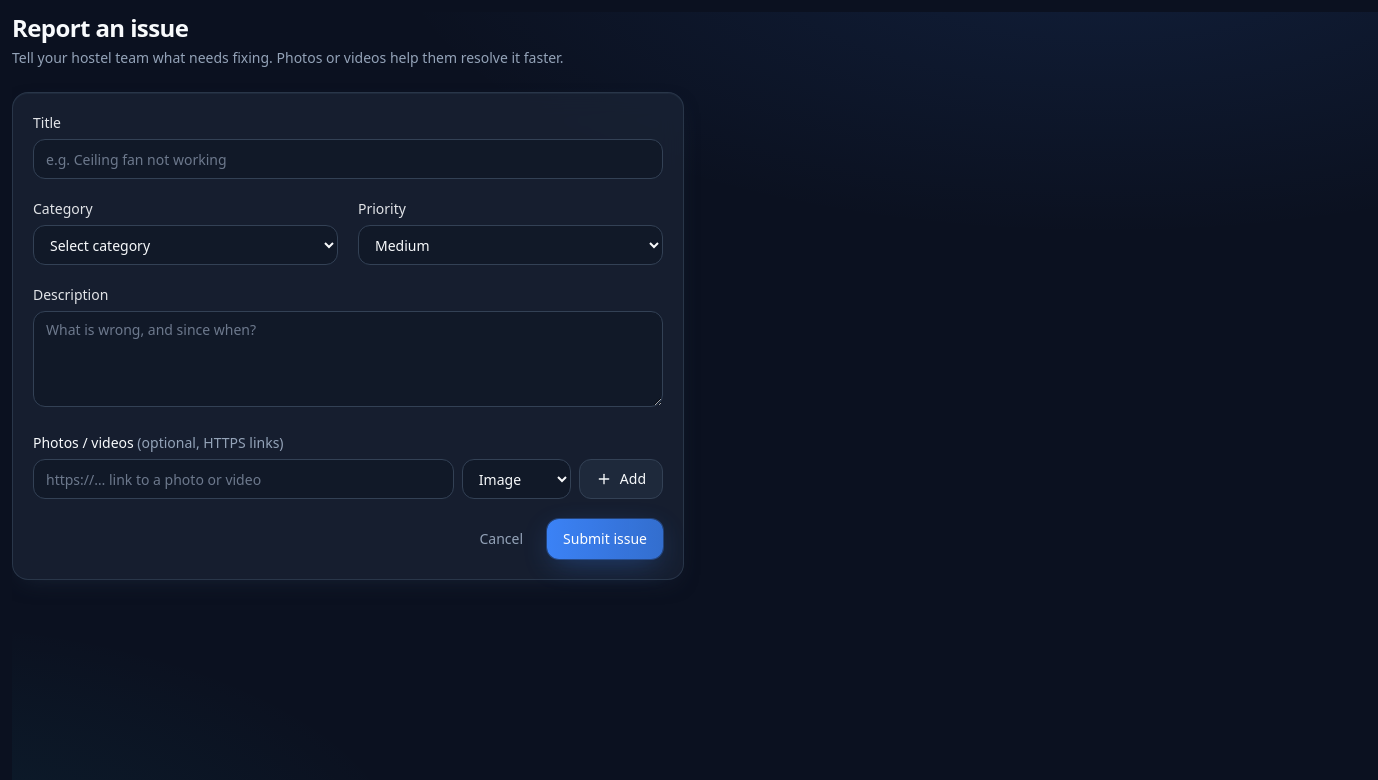
create issue form › validates before submitting
The image size is (1378, 780).
Click the button "Submit issue" at point(605, 539), box [547, 519, 663, 559]
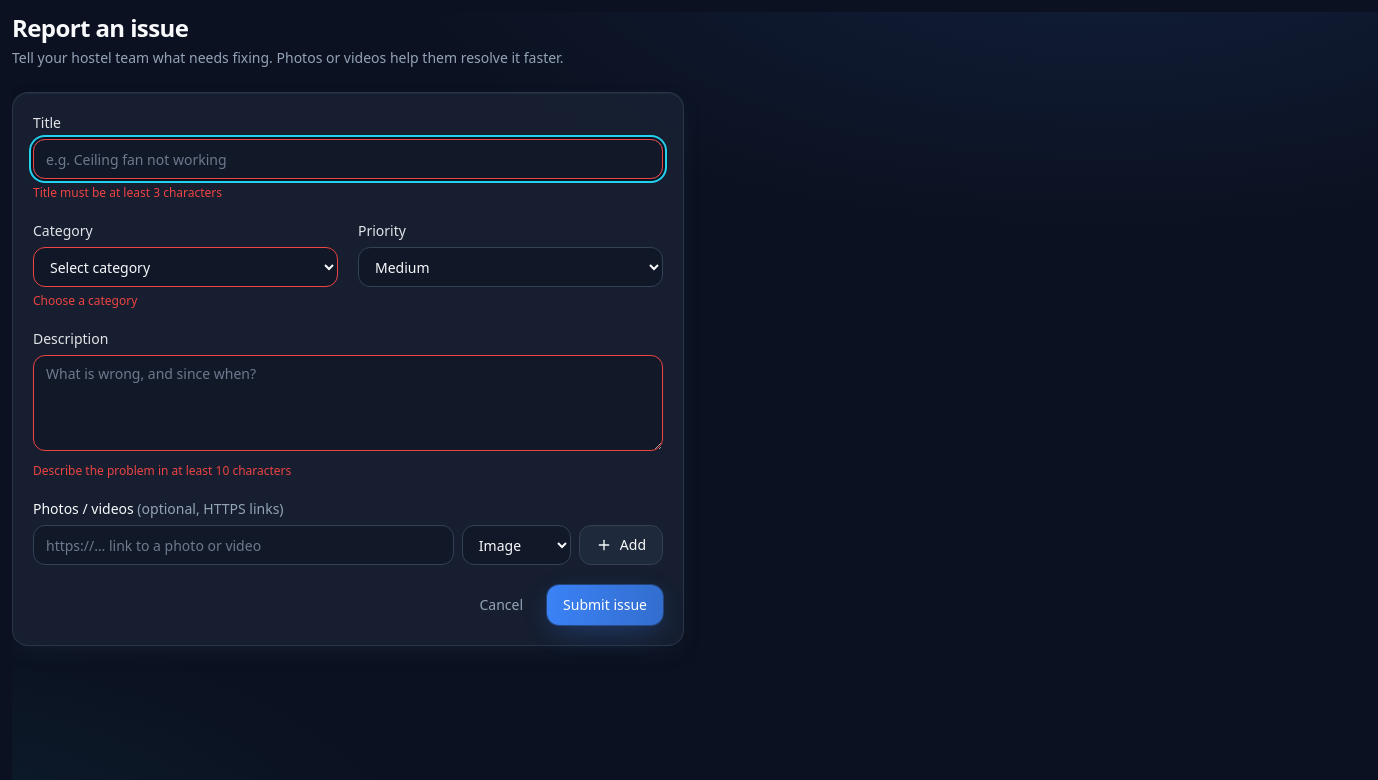
Expected: the text "Title must be at least 3 characters" is shown, [33, 184, 222, 201]
Expected: the text "Choose a category" is shown, [33, 292, 137, 309]
